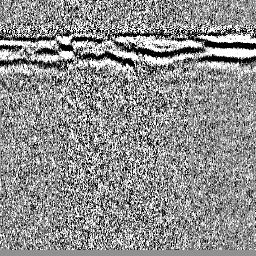cavity: (118, 52, 138, 75)
